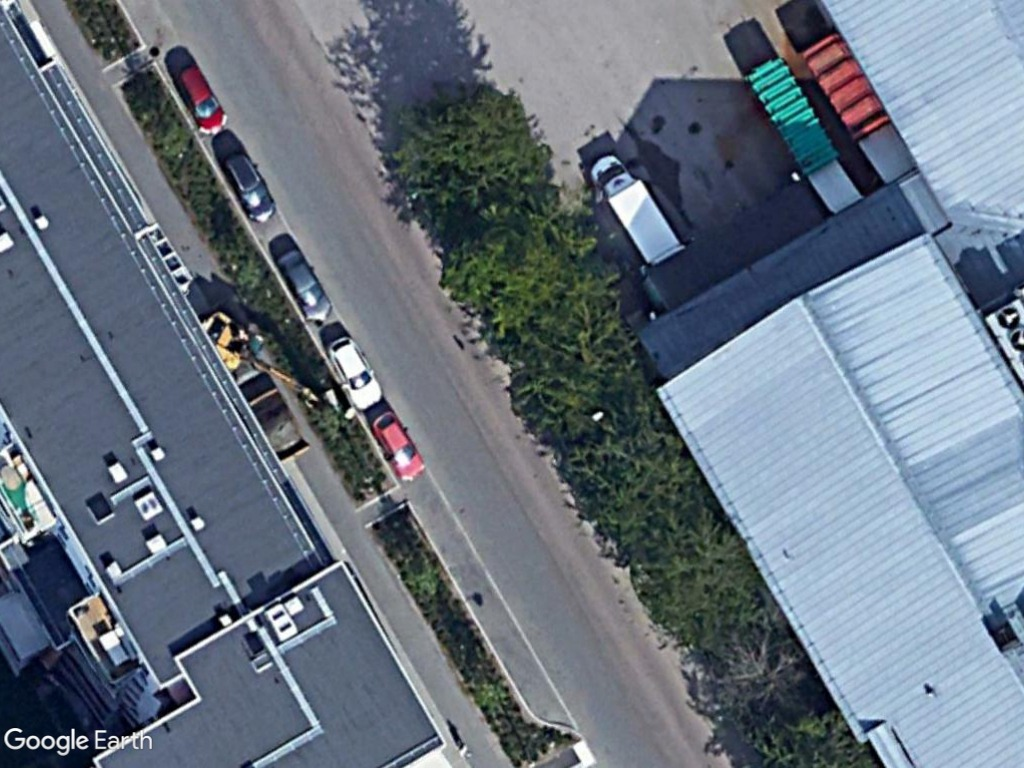car: (270, 243, 334, 327), (324, 335, 385, 413), (222, 148, 281, 228), (368, 408, 430, 484), (175, 59, 230, 138)
truck: (586, 149, 687, 269)
